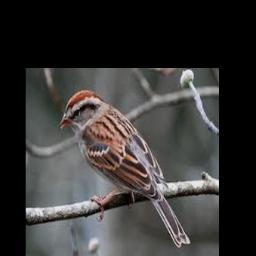Sparrow: (58, 89, 190, 248)
